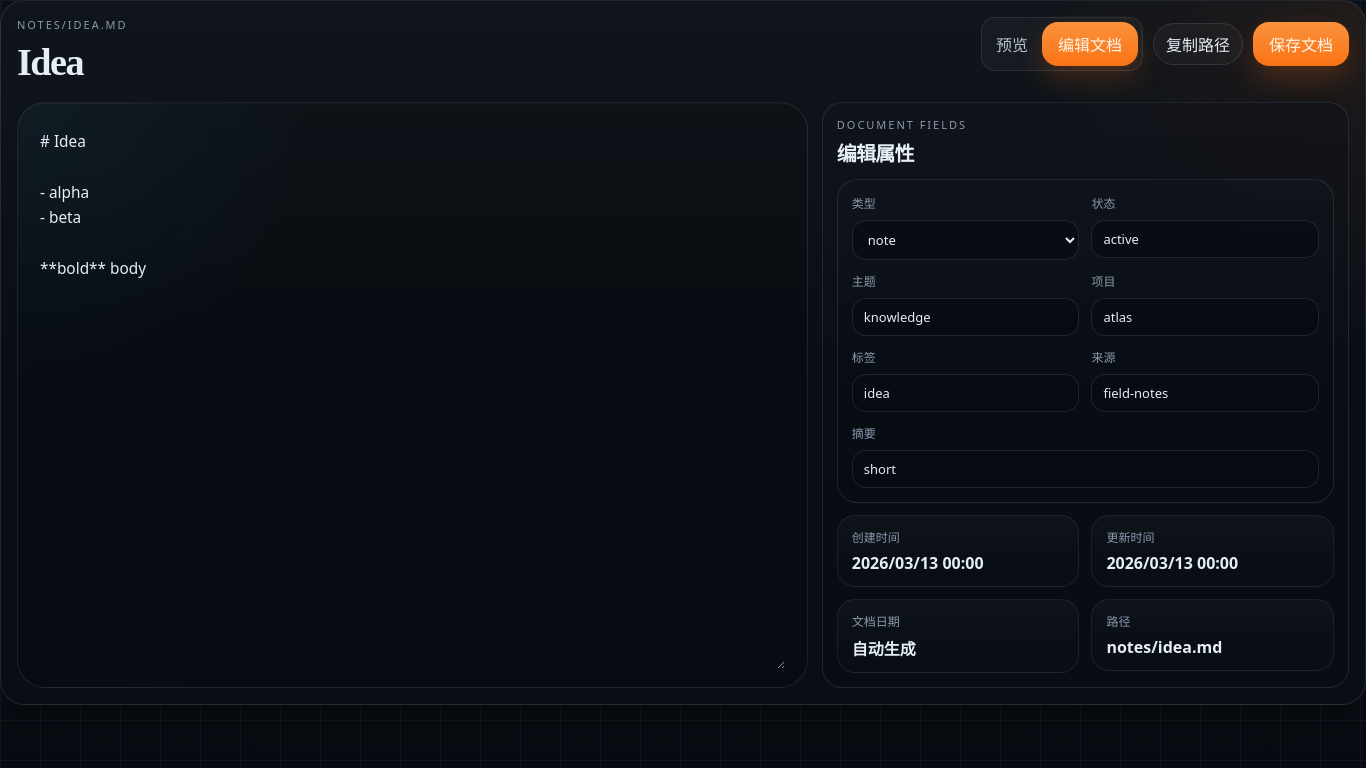
Test: DocumentEditor › edits the title directly from the header title field
This screenshot has width=1366, height=768.
Replace the text in the field with test id "document-editor-title" with "Inline Title": (262, 62) top-left (17, 40), bottom-right (508, 84)
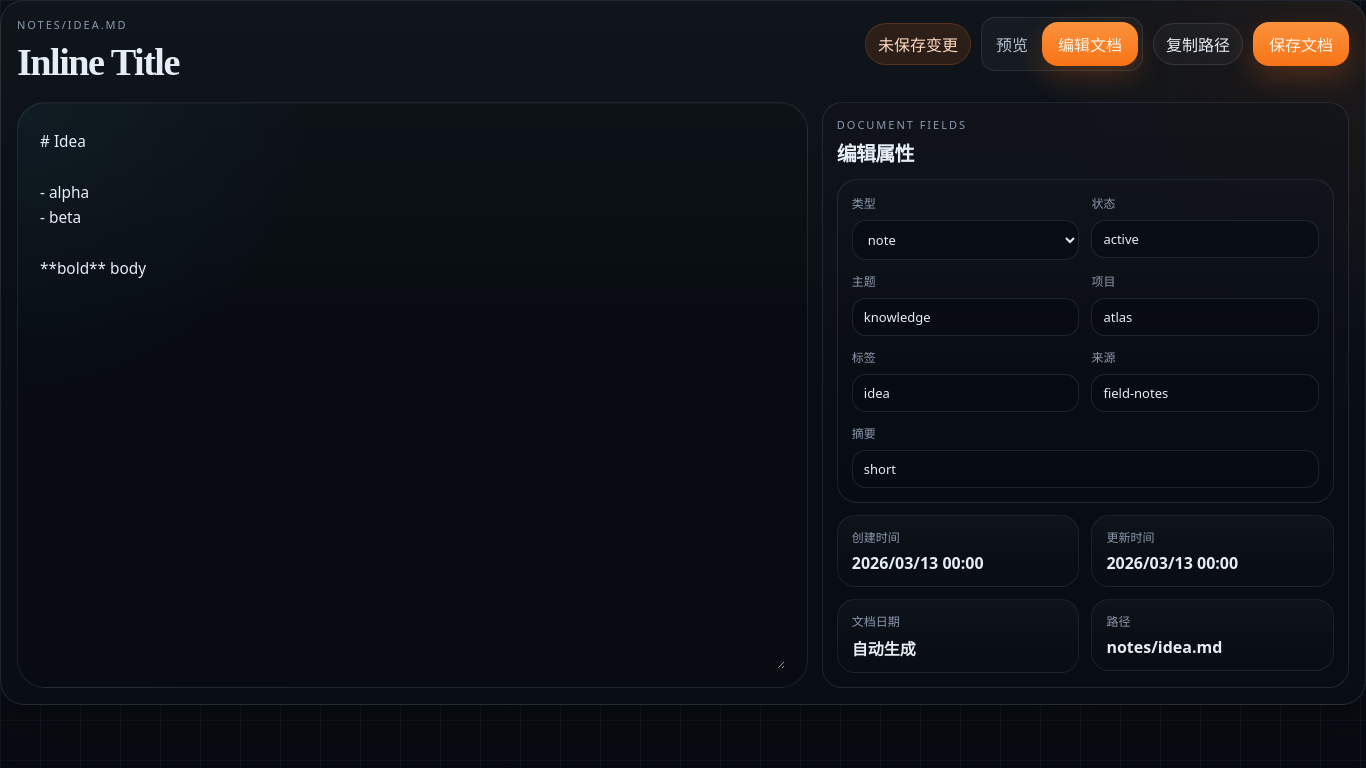
expect the text "未保存变更" is shown: met, box top-left (865, 23), bottom-right (971, 65)
